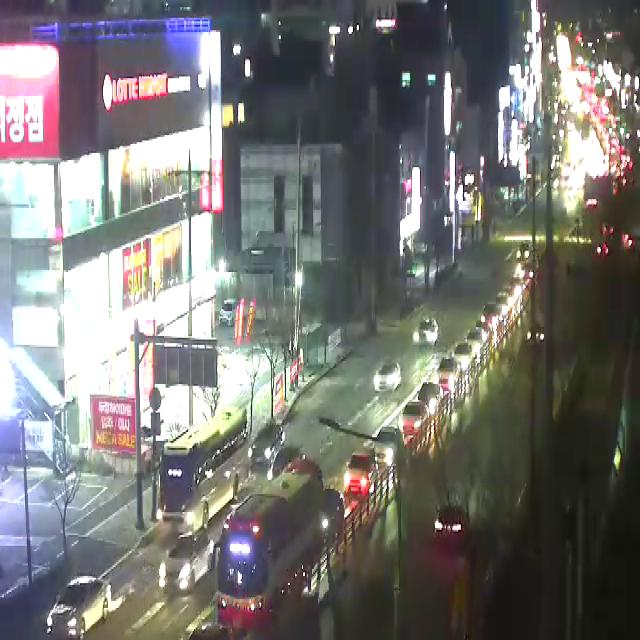Bus: (218, 461, 322, 627), (156, 405, 247, 539)
Car: (46, 578, 111, 640), (157, 535, 215, 593), (248, 423, 284, 464), (434, 504, 469, 546), (344, 451, 378, 494), (372, 427, 404, 465), (322, 490, 344, 539), (398, 401, 428, 435), (434, 357, 460, 391), (374, 362, 402, 392), (418, 382, 442, 414), (413, 317, 438, 344), (218, 298, 238, 327), (452, 342, 472, 371), (527, 322, 545, 344), (464, 330, 482, 352), (517, 242, 530, 261)
